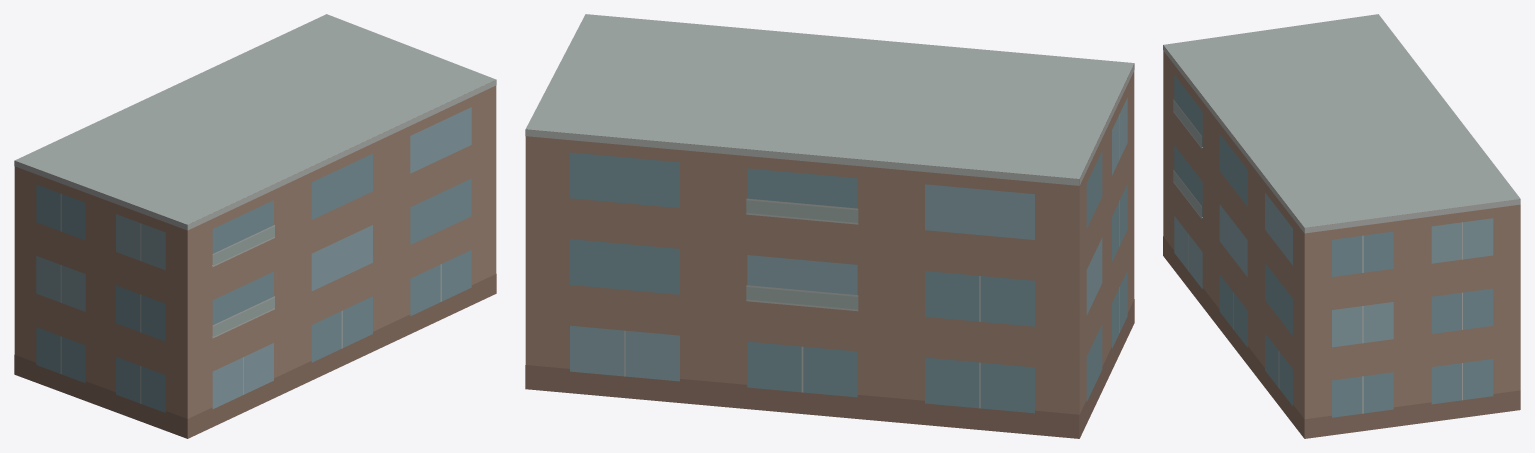
File: survey-upis-32759759.glb
The picture shows the model from 3 angles, left to right: view 1: azimuth 30°, elevation 25°; view 2: azimuth 150°, elevation 25°; view 3: azimuth 270°, elevation 25°; orthographic projection. The views are drawn at different scales.
Visible parts, largest first — view 1: survey-upis-32759759.tmp; view 2: survey-upis-32759759.tmp; view 3: survey-upis-32759759.tmp.
Part boxes in pixels (x1,y1,x2,y2): survey-upis-32759759.tmp: (14,14,496,438); survey-upis-32759759.tmp: (525,14,1134,438); survey-upis-32759759.tmp: (1163,14,1520,438).
Size of the model in its own units: 19.89 by 9.15 by 14.06.
